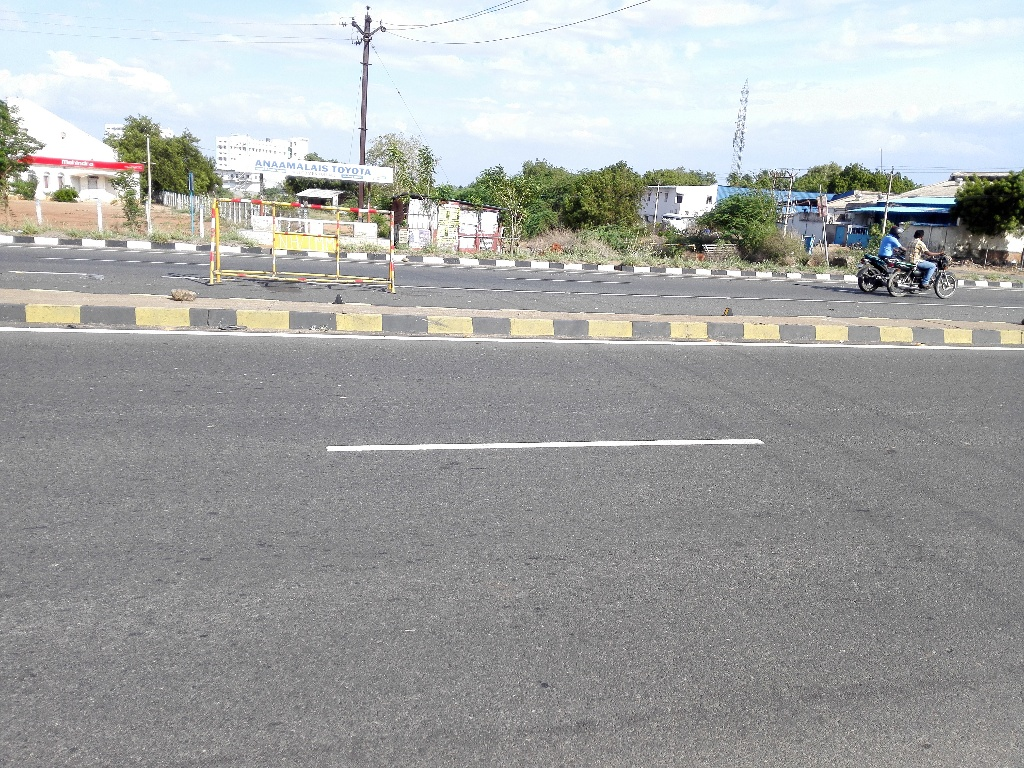biker: (888, 214, 965, 303), (851, 210, 908, 296)
helmet: (888, 222, 905, 244)
nohelmet: (911, 224, 928, 246)
